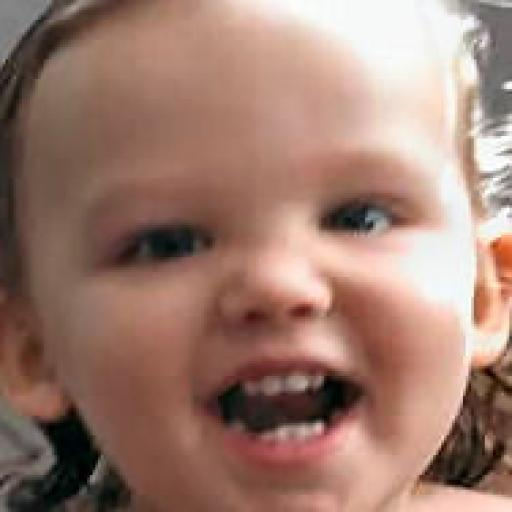Autism: (20, 12, 502, 512)
